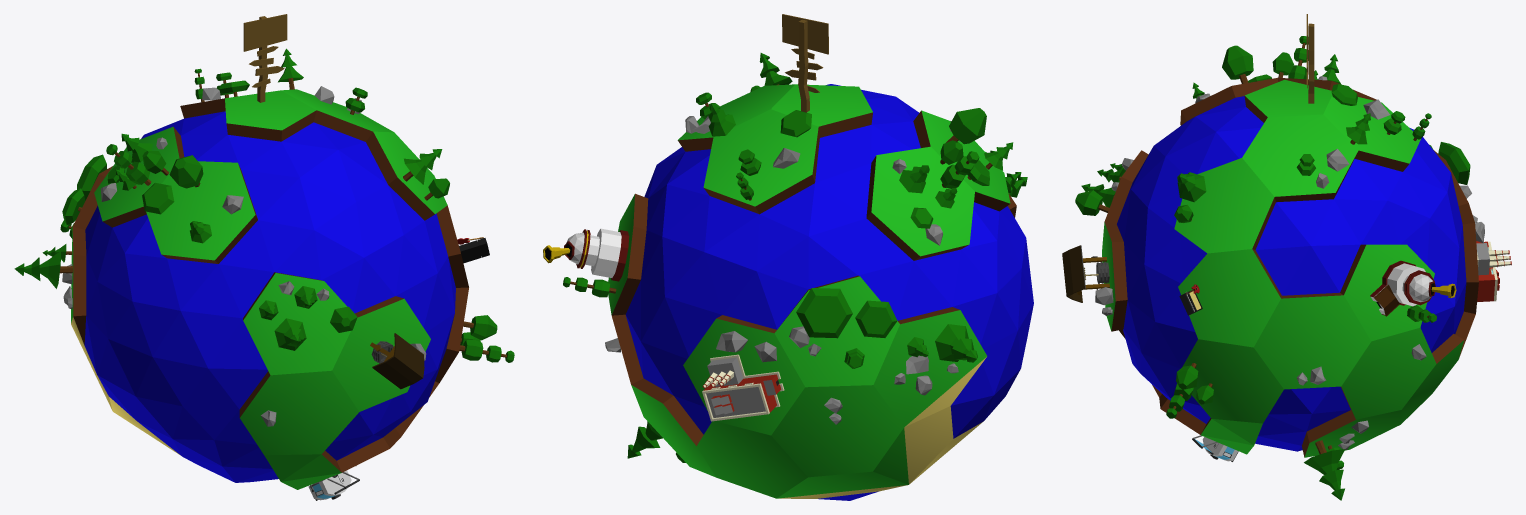
File: planet_whole.glb
3 renders of one model, left to right at view 1: azimuth 30°, elevation 25°; view 2: azimuth 150°, elevation 25°; view 3: azimuth 270°, elevation 25°, orthographic. The views are drawn at different scales.
Parts seen in each view (by area): view 1: water, planet, welcome_sign, well, og_tree2.010, camper, og_tree3.005, og_tree.004, og_tree.005, og_tree4.005, og_tree2.005, og_tree2.002 (+4 smaller); view 2: planet, water, factory, observatory, welcome_sign, og_tree4.001, og_tree2.010, og_tree4.003, og_tree3.005, og_tree.004, og_tree4.002, og_tree2.006 (+4 smaller); view 3: planet, water, observatory, well, factory, og_tree2.006, og_tree3.005, og_tree4.001, welcome_sign, og_tree2.002, og_tree3.004, camper (+1 smaller).
Boxes of the visible parts, bbox=[...] form: water: bbox=[84, 111, 455, 482]; planet: bbox=[71, 89, 468, 489]; welcome_sign: bbox=[243, 14, 287, 102]; well: bbox=[370, 333, 424, 389]; og_tree2.010: bbox=[14, 251, 72, 288]; camper: bbox=[308, 465, 359, 500]; og_tree3.005: bbox=[169, 155, 203, 188]; og_tree.004: bbox=[106, 144, 151, 185]; og_tree.005: bbox=[459, 339, 514, 362]; og_tree4.005: bbox=[142, 182, 174, 214]; og_tree2.005: bbox=[274, 318, 306, 350]; og_tree2.002: bbox=[403, 149, 442, 184]; planet: bbox=[608, 84, 1016, 498]; water: bbox=[625, 84, 1033, 500]; factory: bbox=[702, 354, 784, 421]; observatory: bbox=[543, 228, 629, 281]; welcome_sign: bbox=[782, 14, 828, 112]; og_tree4.001: bbox=[796, 288, 852, 338]; og_tree2.010: bbox=[935, 324, 977, 362]; og_tree4.003: bbox=[855, 300, 897, 337]; og_tree3.005: bbox=[946, 108, 986, 144]; og_tree.004: bbox=[940, 151, 979, 188]; og_tree4.002: bbox=[780, 110, 811, 137]; og_tree2.006: bbox=[627, 421, 662, 458]; planet: bbox=[1102, 77, 1478, 457]; water: bbox=[1117, 96, 1466, 451]; observatory: bbox=[1370, 260, 1456, 316]; well: bbox=[1062, 245, 1109, 302]; factory: bbox=[1476, 241, 1511, 302]; og_tree2.006: bbox=[1304, 440, 1345, 500]; og_tree3.005: bbox=[1222, 45, 1253, 83]; og_tree4.001: bbox=[1438, 142, 1470, 184]; welcome_sign: bbox=[1306, 14, 1314, 103]; og_tree2.002: bbox=[1177, 172, 1206, 202]; og_tree3.004: bbox=[1075, 190, 1109, 215]; camper: bbox=[1192, 435, 1238, 461].
Size of the model in its own units: 58.08 by 65.64 by 62.65.
